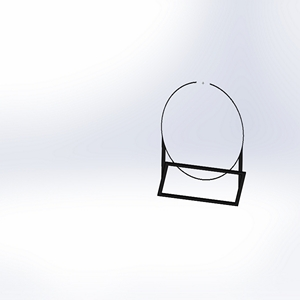circle: (154, 79, 248, 208)
